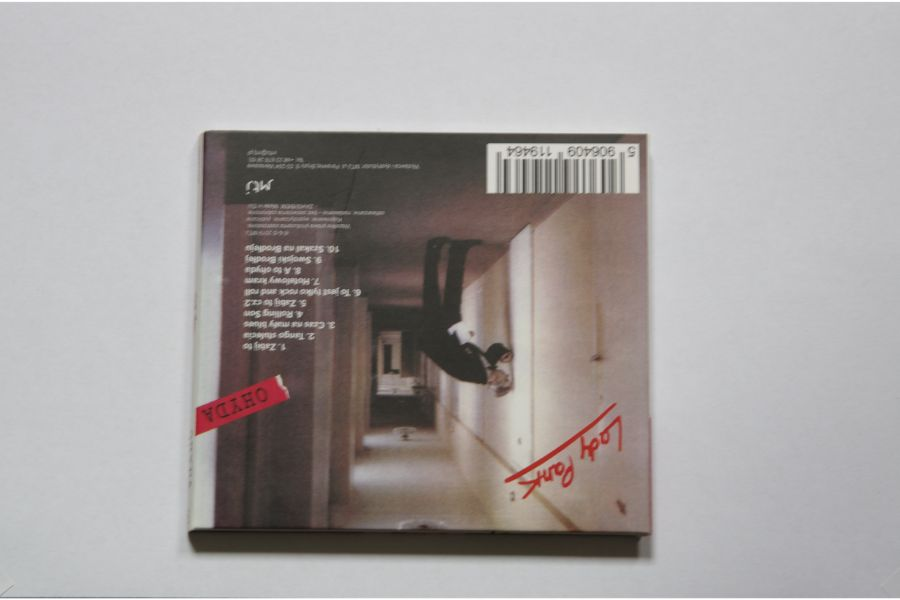album: (191, 130, 653, 536)
